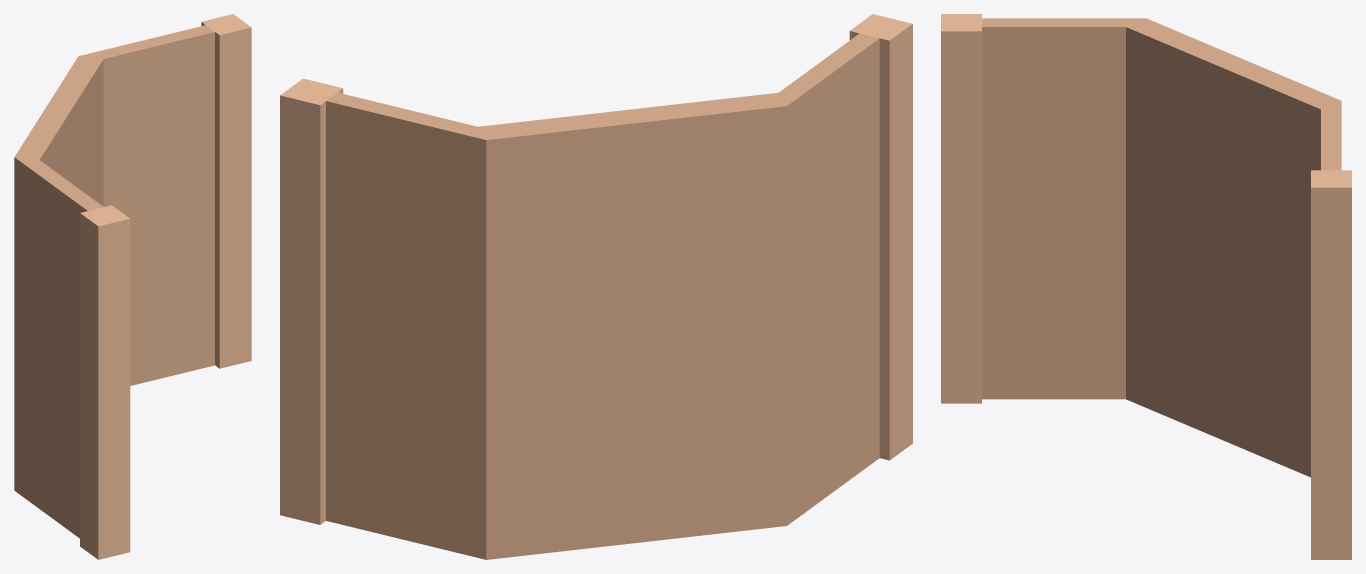
Rendered from wallWoodCornerDiagonal.glb.
3 renders of one model, left to right at view 1: azimuth 30°, elevation 25°; view 2: azimuth 150°, elevation 25°; view 3: azimuth 270°, elevation 25°, orthographic. The views are drawn at different scales.
Parts seen in each view (by area): view 1: wallWoodCornerDiagonal; view 2: wallWoodCornerDiagonal; view 3: wallWoodCornerDiagonal.
Boxes of the visible parts, left/top/right/bottom form: wallWoodCornerDiagonal: left=14, top=14, right=251, bottom=559; wallWoodCornerDiagonal: left=280, top=14, right=912, bottom=559; wallWoodCornerDiagonal: left=941, top=14, right=1351, bottom=559.
Bounding box in the file's own units: 1 × 1 × 1.
